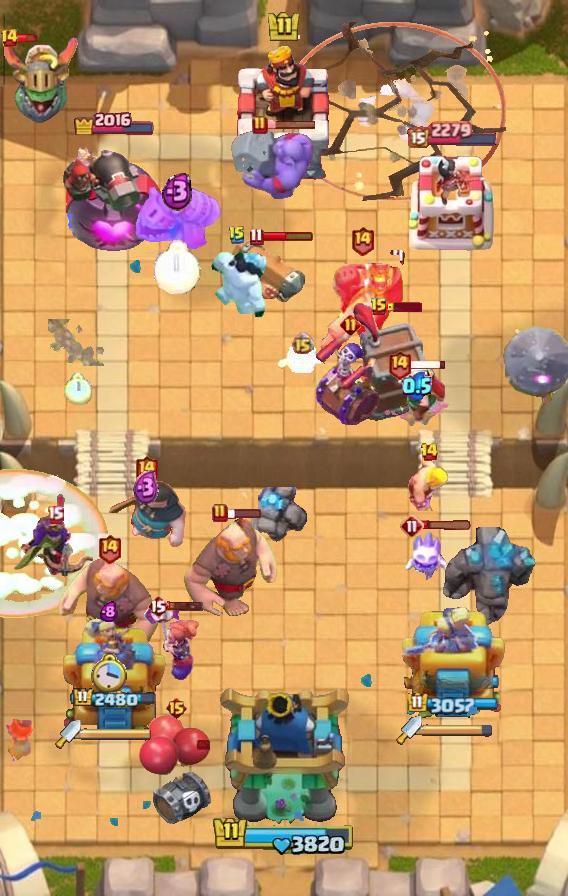archer: (407, 457, 451, 512)
archer-queen: (227, 126, 317, 204)
balloon: (55, 556, 163, 656), (180, 518, 280, 622)
bar: (399, 607, 507, 731), (61, 615, 166, 731)
barbarian-hut: (12, 513, 98, 589)
bat: (277, 343, 327, 373)
battle-healer: (225, 234, 305, 306)
cannoneer-tower: (440, 527, 538, 629)
clock: (212, 815, 356, 857)
dart-goblin: (352, 303, 430, 423)
electro-spirit: (161, 171, 194, 211), (133, 470, 159, 506), (402, 371, 432, 401), (100, 602, 118, 623)
elixir: (154, 240, 201, 294), (91, 654, 129, 696), (64, 373, 92, 405)
emote: (261, 230, 314, 242), (265, 119, 317, 130), (421, 521, 473, 532), (409, 358, 446, 370), (168, 600, 205, 612), (226, 507, 262, 519), (386, 302, 422, 312), (8, 33, 40, 43)
fisherman: (48, 318, 108, 365)
guard: (282, 22, 506, 202)
hog-rider: (0, 714, 38, 766)
king-tower: (216, 684, 352, 826), (230, 43, 338, 181)
king-tower-bar: (422, 723, 494, 737), (81, 727, 153, 741)
lava-hound: (318, 245, 406, 355)
mirror: (402, 527, 446, 581)
night-witch: (0, 35, 80, 125), (132, 181, 222, 253)
phoenix-big: (0, 469, 108, 619)
queen-tower: (407, 150, 499, 256)
rage: (207, 249, 267, 321)
royal-hog: (105, 478, 187, 550)
royal-recruit-evolution: (138, 713, 214, 825)
selected: (407, 120, 499, 148), (407, 691, 499, 715), (72, 109, 155, 135), (71, 686, 156, 710)
skeleton-king: (380, 360, 454, 430)
skeleton-king-bar: (315, 329, 385, 429)
tesla-evolution: (142, 604, 199, 684)
text: (350, 224, 375, 255), (133, 455, 158, 486), (387, 349, 412, 379), (98, 532, 122, 563), (400, 514, 424, 538), (164, 696, 187, 720), (290, 333, 313, 356), (147, 594, 169, 618), (339, 313, 360, 335), (1, 28, 20, 48), (420, 442, 439, 462), (228, 225, 246, 245), (370, 297, 388, 317), (48, 505, 65, 524), (252, 115, 268, 135), (212, 503, 228, 523), (248, 227, 263, 245)
tower-bar: (63, 136, 165, 256)
valkyrie-evolution: (241, 486, 307, 548)
x-bow: (497, 325, 568, 405)
